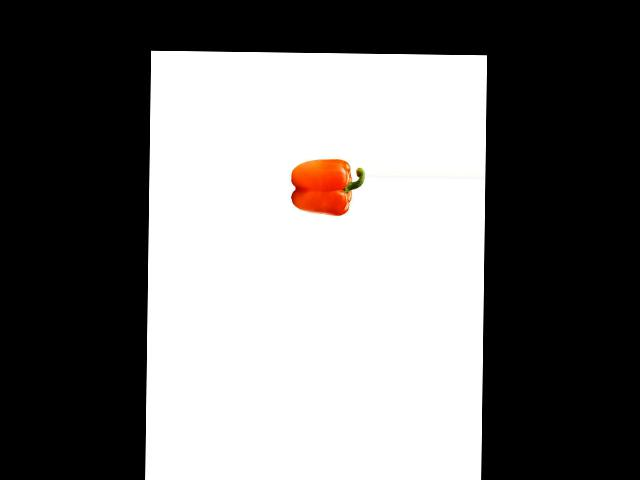bell_pepper: (290, 152, 365, 221)
